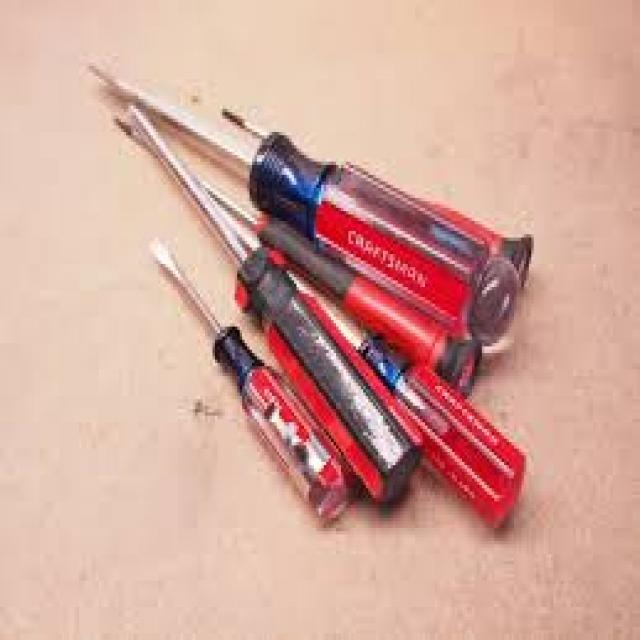screwdriver: (90, 55, 530, 324), (120, 102, 417, 498), (150, 245, 354, 528), (220, 92, 530, 266)
